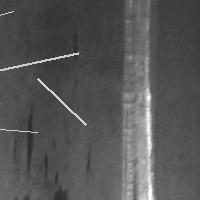scratches: (120, 1, 155, 199), (33, 74, 91, 130), (0, 48, 83, 78), (42, 152, 70, 200), (22, 102, 38, 177), (0, 121, 42, 137), (69, 29, 82, 65), (83, 139, 95, 178), (0, 6, 18, 27)
